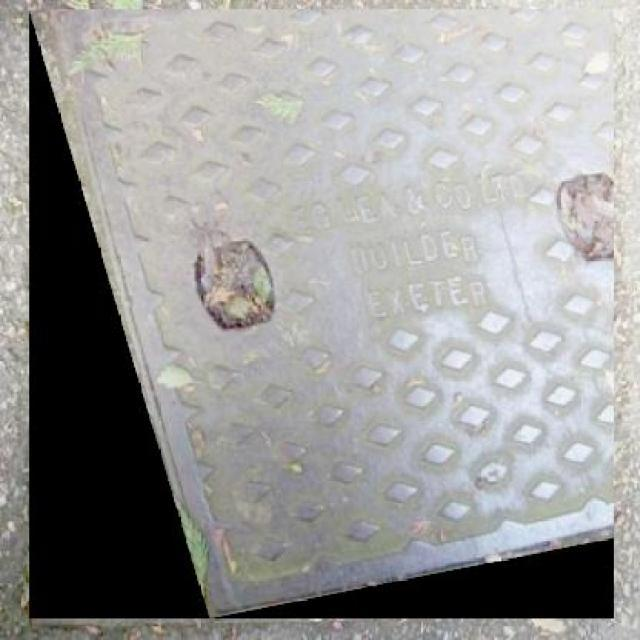Manhole: (30, 9, 615, 618)
